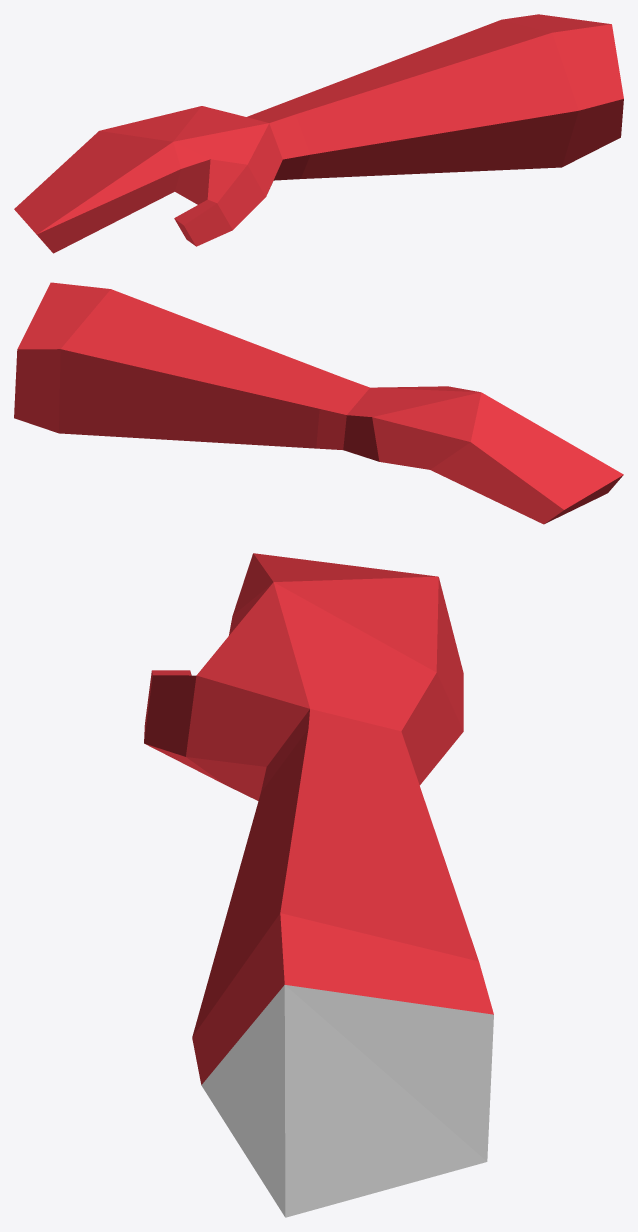
The model's file is MazeLow_hand2.fbx.
The picture shows the model from 3 angles, top to bottom: view 1: azimuth 30°, elevation 25°; view 2: azimuth 150°, elevation 25°; view 3: azimuth 270°, elevation 25°; orthographic projection. The views are drawn at different scales.
Visible parts, largest first — view 1: arm_l; view 2: arm_l; view 3: arm_l.
Boxes of the visible parts, x1,y1,x2,y2 form: arm_l: (14, 14, 623, 253); arm_l: (14, 282, 623, 524); arm_l: (144, 553, 493, 1217).
Bounding box in the file's own units: 45.84 × 10.16 × 12.1.
